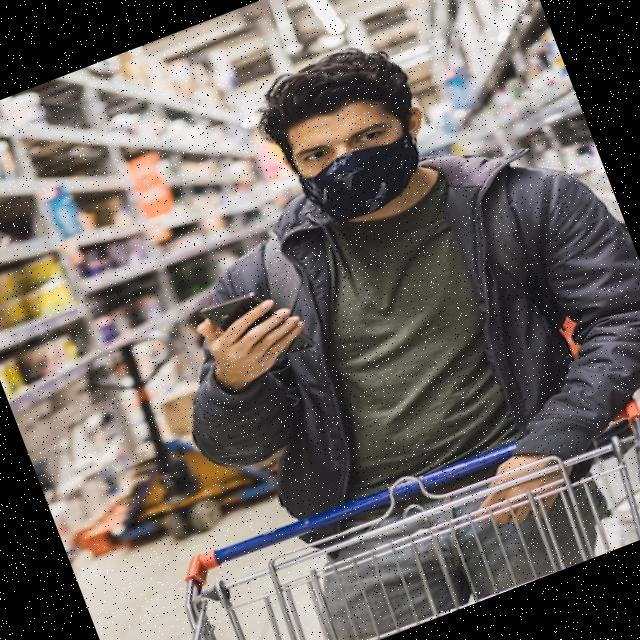Person: (81, 0, 640, 640)
